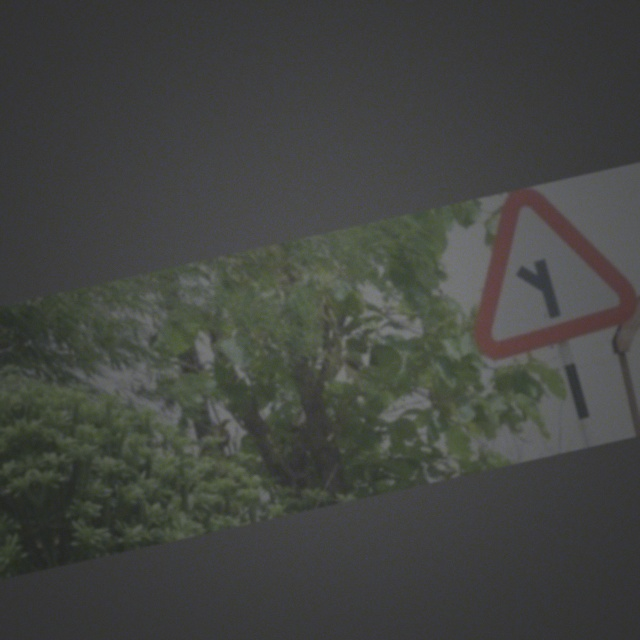Y_Intersection: (451, 176, 634, 360)
